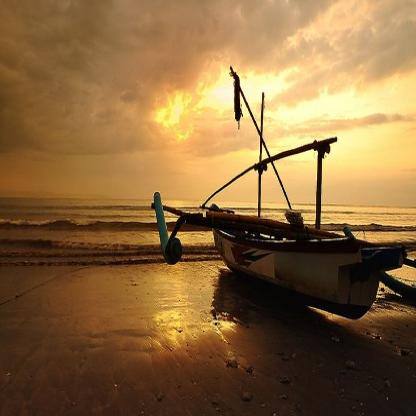fishing boat: (168, 205, 402, 318)
